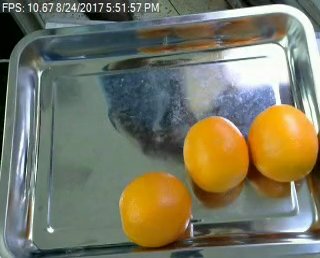Orange: (118, 172, 192, 247), (248, 105, 318, 182), (182, 114, 249, 191)
